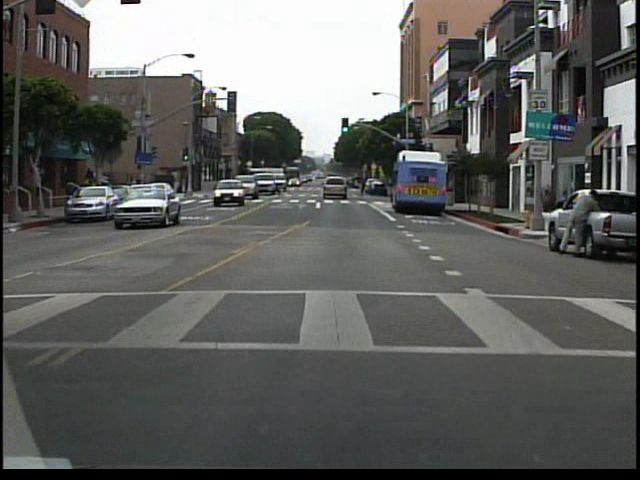person: (556, 184, 607, 260)
